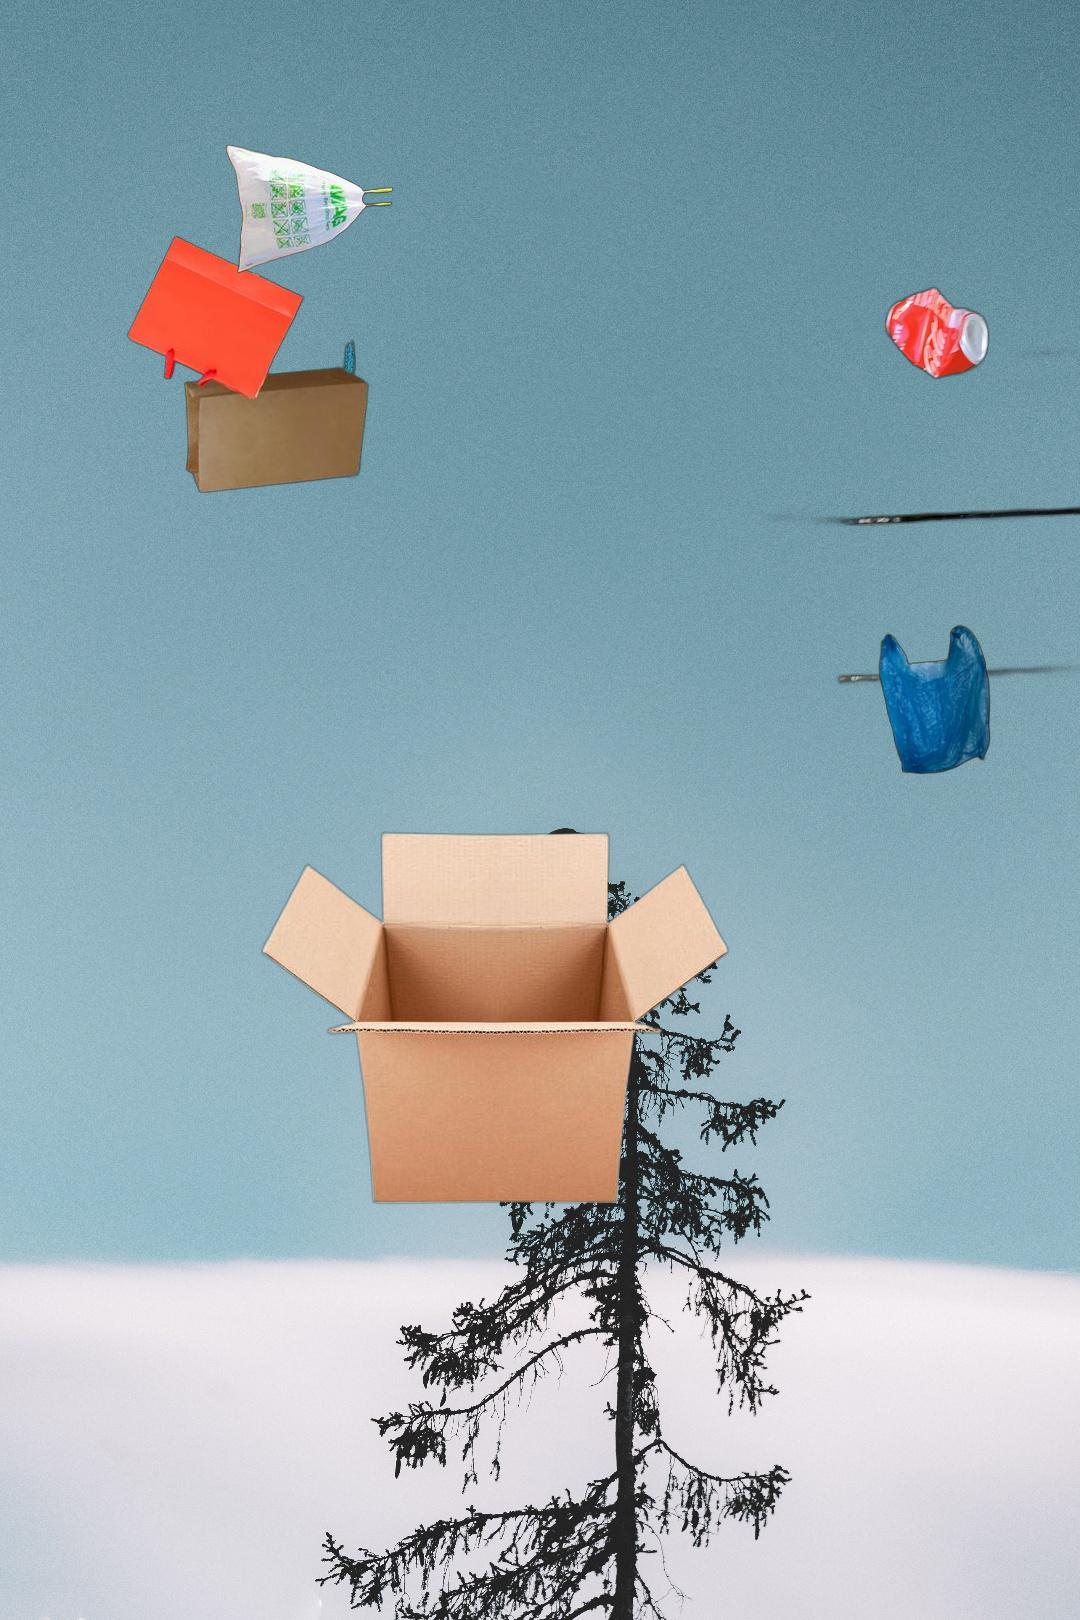metal-cans: (742, 282, 1080, 745)
paper-bag: (125, 233, 371, 495)
plastic-bag: (224, 143, 397, 275), (877, 622, 993, 777)
trashbox-cardboard: (258, 829, 732, 1208)
